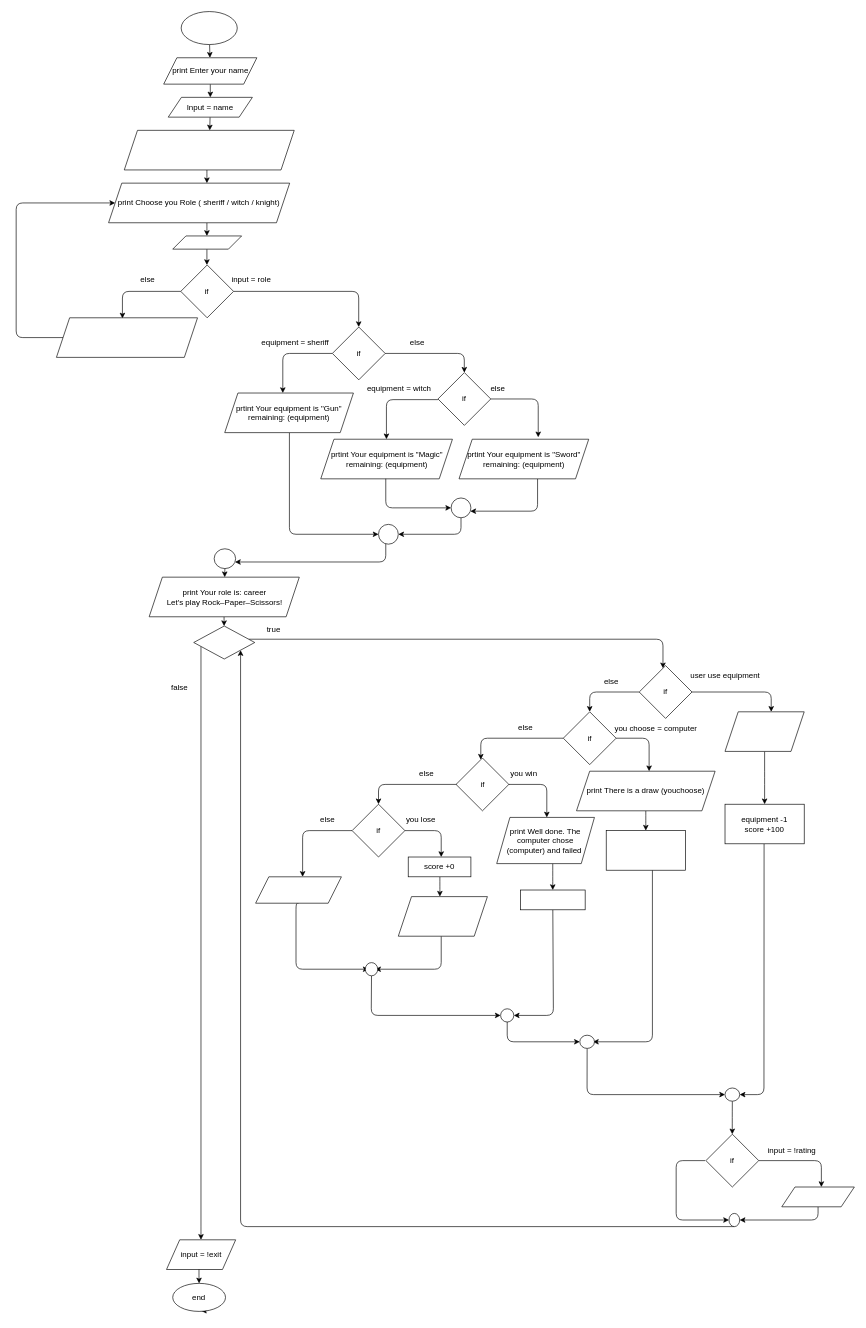
This 866x1328 diagram has some shape labels left out. Here are the shapes that lost their labels. From the top down, the centre of each, then its label:
At (209,28): "start".
At (209,150): "print Hello, (name)! Current Score = 0 Choose your Role".
At (207,242): "input role".
At (127,337): "print Invalid role, choose again!".
At (224,642): "while".
At (764,731): "input equipment".
At (645,850): "score +50".
At (298,889): "print Invalid input!".
At (552,899): "score +100".
At (442,916): "print Sorry, but the computer chose (computerchoose)".
At (817,1196): "print score".
